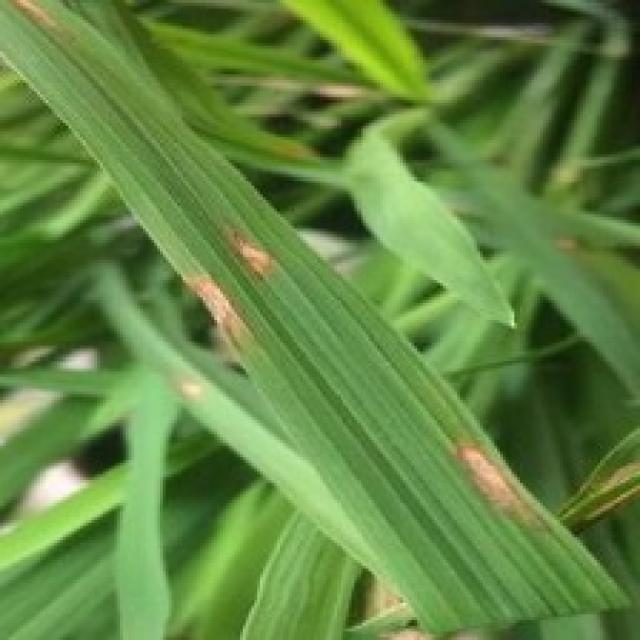Rice___Rice_Blast: (0, 0, 635, 637)
